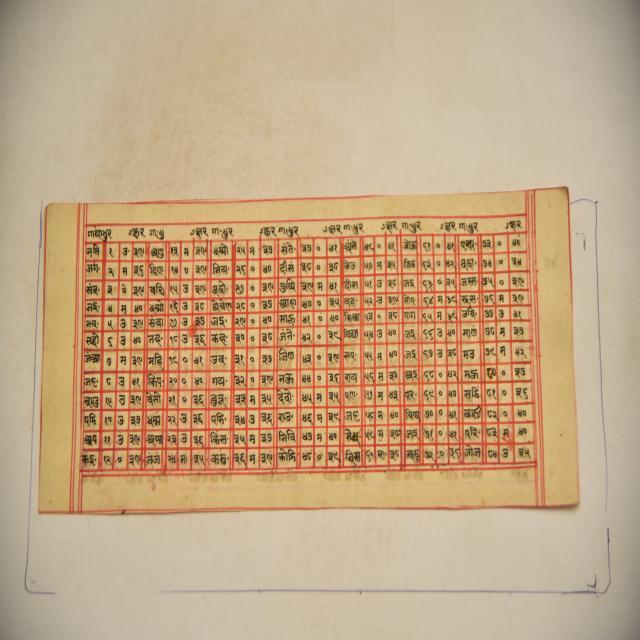text_paragraph: (33, 183, 579, 511)
